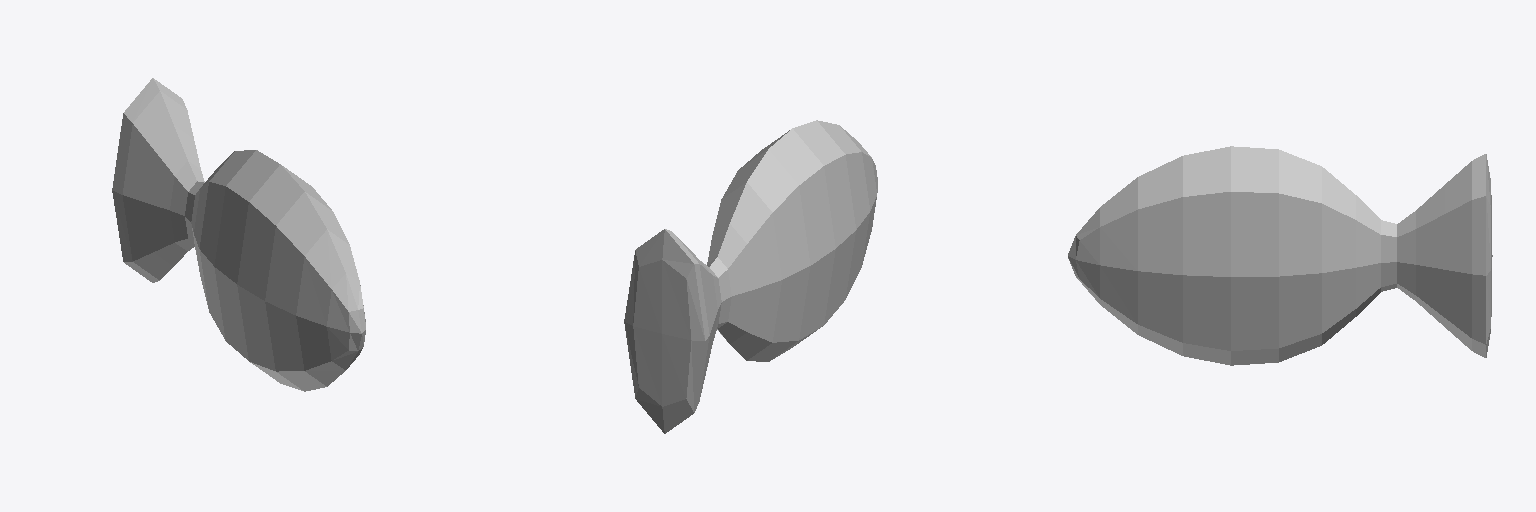
File: fish.obj
3 renders of one model, left to right at view 1: azimuth 30°, elevation 25°; view 2: azimuth 150°, elevation 25°; view 3: azimuth 270°, elevation 25°, orthographic.
Visible parts, largest first — view 1: fish; view 2: fish; view 3: fish.
Boxes of the visible parts, x1=… form: fish: x1=112, y1=78, x2=365, y2=391; fish: x1=624, y1=120, x2=877, y2=433; fish: x1=1068, y1=146, x2=1492, y2=365.
Size of the model in its own units: 6.18 by 14.94 by 26.23.